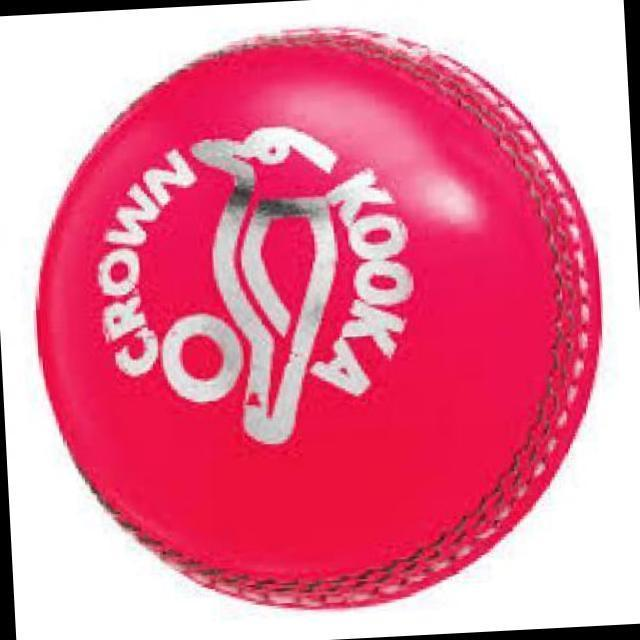-: (42, 50, 589, 599)
